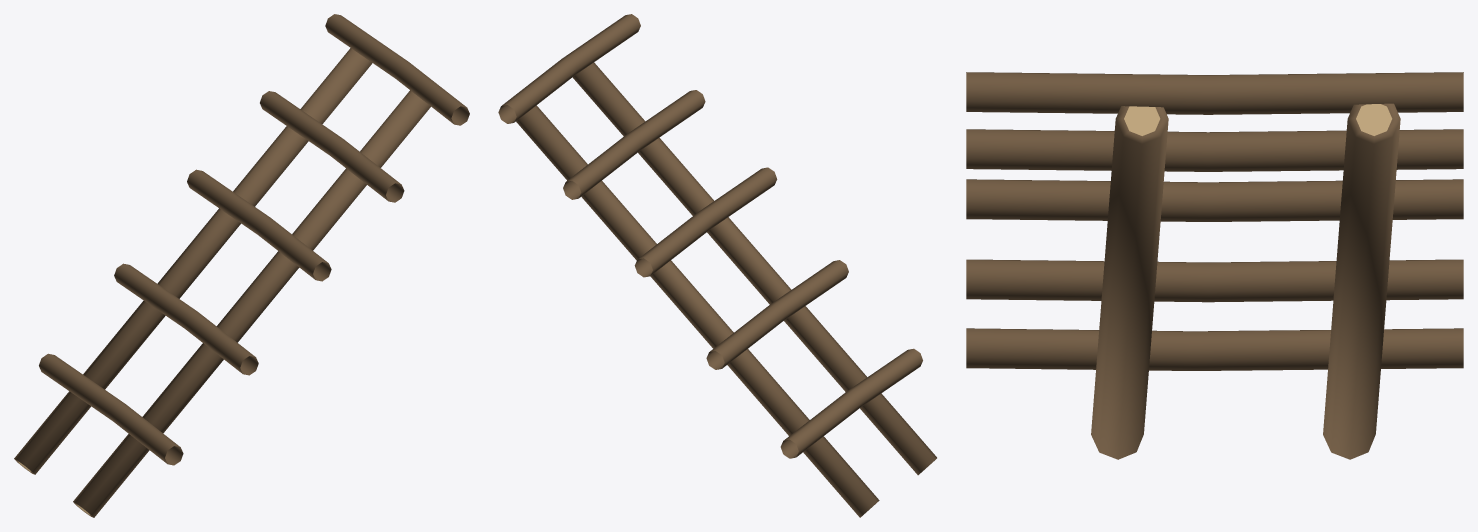
The model's file is rpgpp_ag_roof_support_01_6x3x3_roof_01b_half_a.fbx.
3 views of the same model, side by side, from view 1: azimuth 30°, elevation 25°; view 2: azimuth 150°, elevation 25°; view 3: azimuth 270°, elevation 25° (orthographic). The views are drawn at different scales.
Parts seen in each view (by area): view 1: rpgpp_ag_roof_support_01_6x3x3_roof_01b_half_a; view 2: rpgpp_ag_roof_support_01_6x3x3_roof_01b_half_a; view 3: rpgpp_ag_roof_support_01_6x3x3_roof_01b_half_a.
Boxes of the visible parts, x1=… form: rpgpp_ag_roof_support_01_6x3x3_roof_01b_half_a: x1=14, y1=14, x2=469, y2=517; rpgpp_ag_roof_support_01_6x3x3_roof_01b_half_a: x1=498, y1=14, x2=936, y2=517; rpgpp_ag_roof_support_01_6x3x3_roof_01b_half_a: x1=966, y1=72, x2=1463, y2=459.
Size of the model in its own units: 5.07 by 4.7 by 3.
